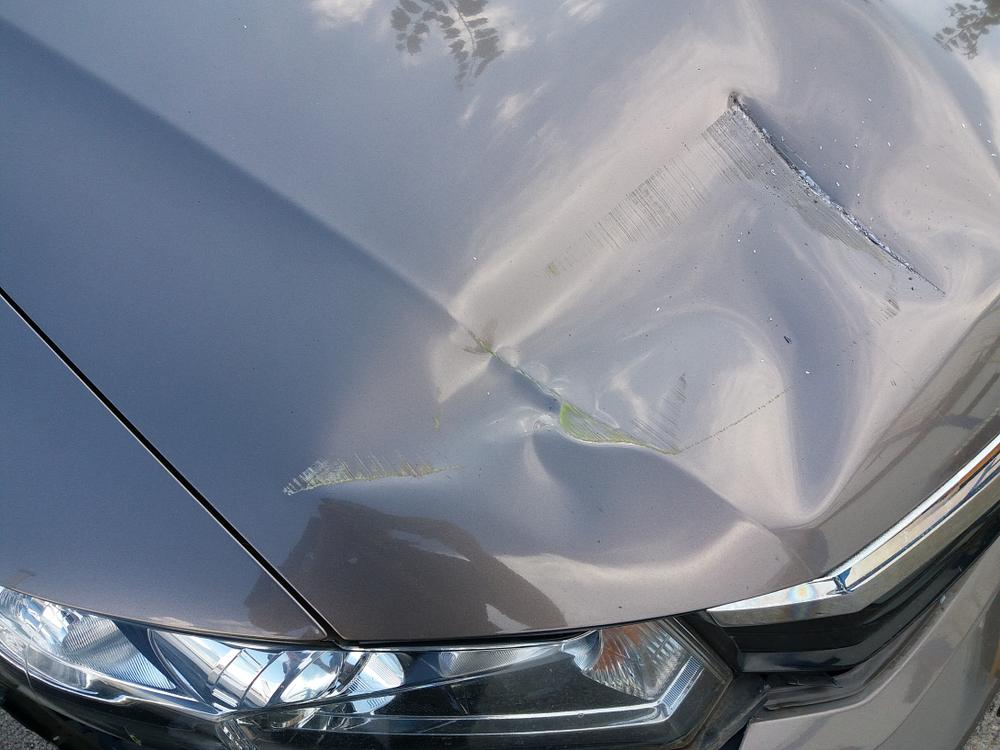dent: (278, 4, 1000, 574)
